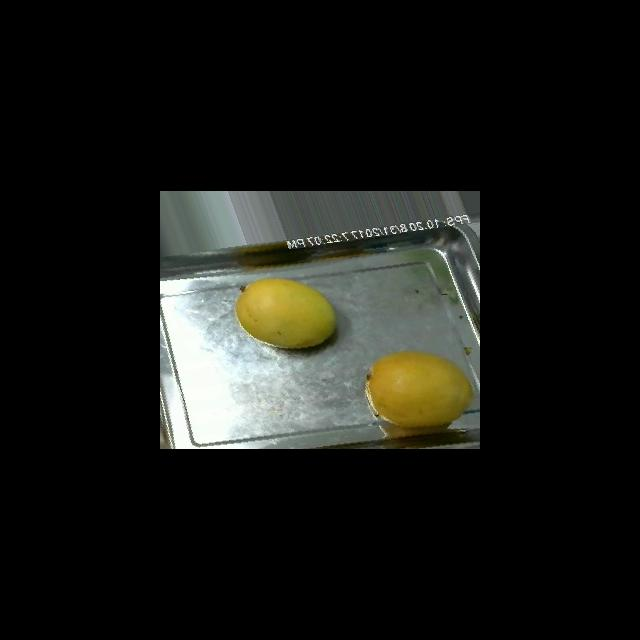Mango: (364, 350, 474, 428), (234, 277, 337, 349)
